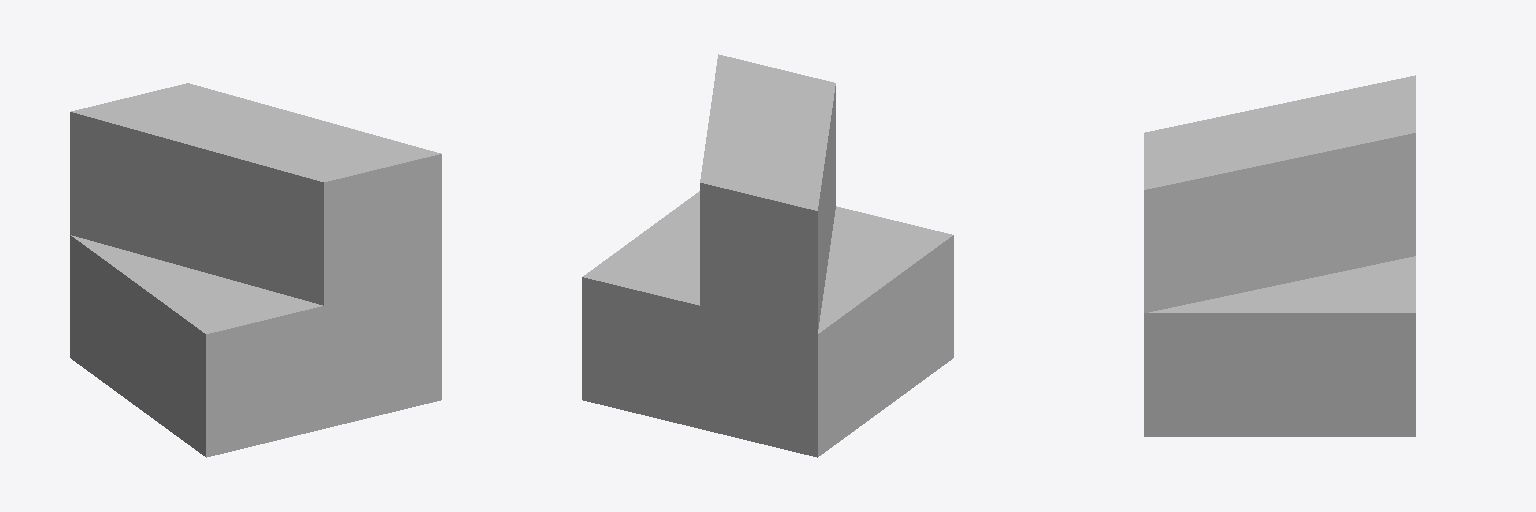
Rendered from skus_r.obj.
3 views of the same model, side by side, from view 1: azimuth 30°, elevation 25°; view 2: azimuth 150°, elevation 25°; view 3: azimuth 270°, elevation 25° (orthographic).
Size of the model in its own units: 1 by 1 by 1.